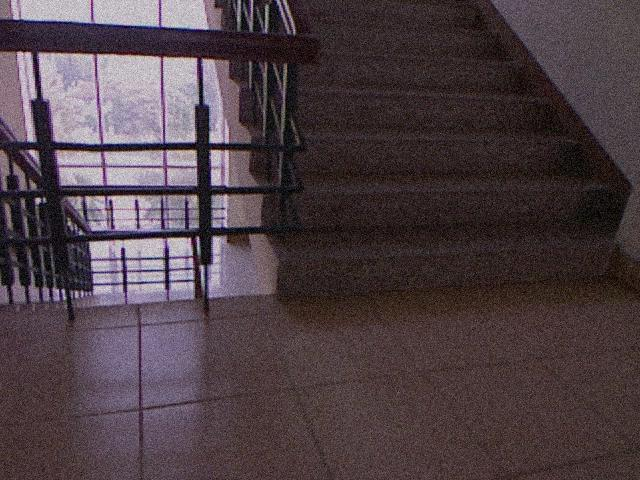Escaleras: (218, 5, 619, 290), (0, 276, 90, 340)
